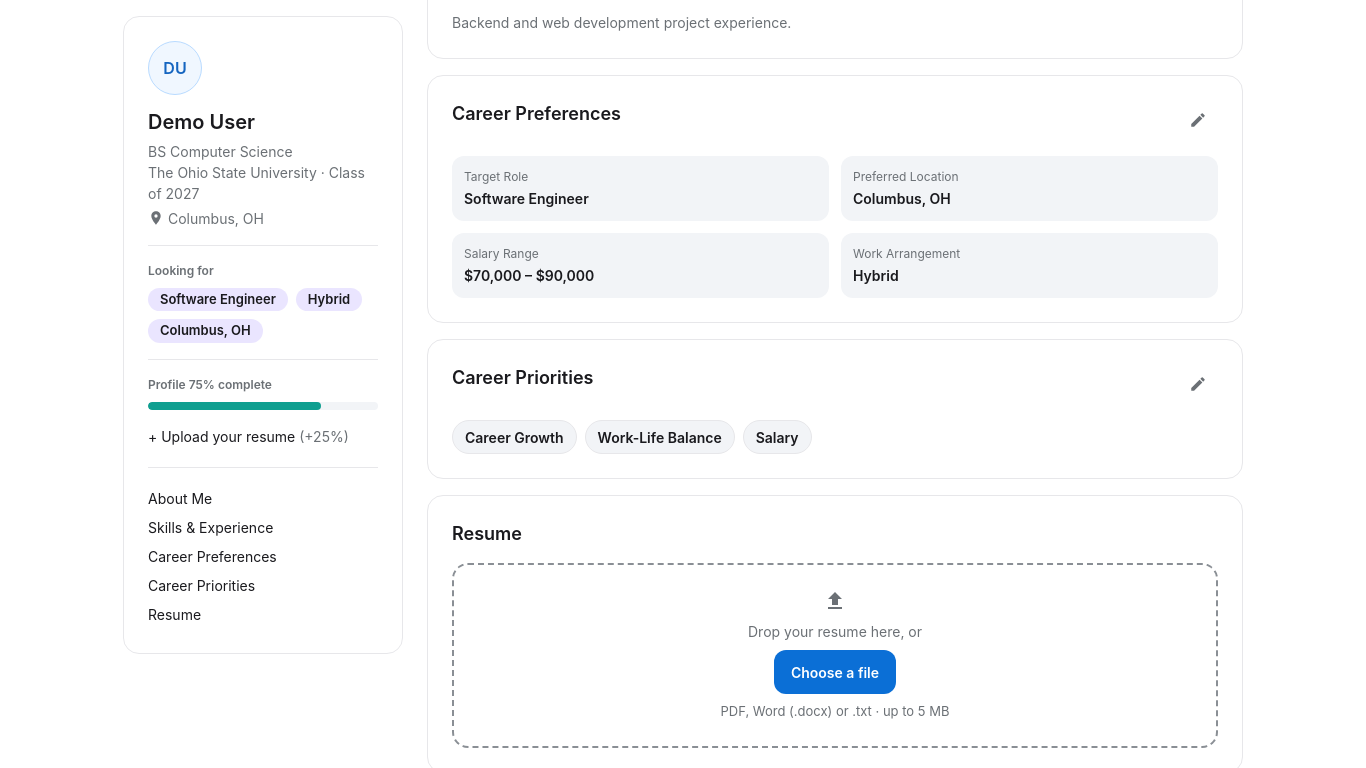
Test: ProfileView › allows at most three career priorities
(page scrolled)
Click the button named "Edit Career Priorities" at (1198, 384), box [1178,364,1218,404]
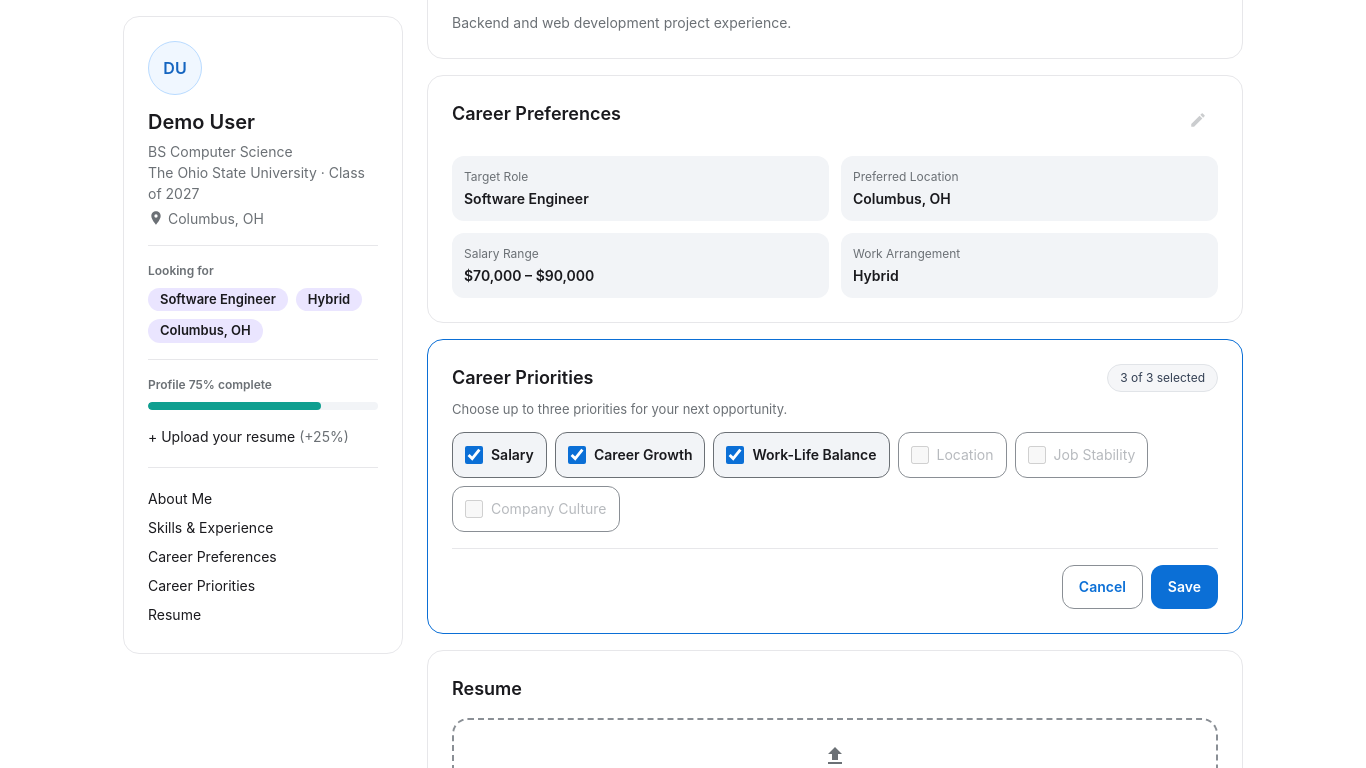
Check: the checkbox labelled "Location" is disabled, box [910,446,928,464]
Check: the text "3 of 3 selected" is shown, box [1107,364,1218,392]
Click the checkbox labelled "Salary" at (474, 455), box [465,446,483,464]
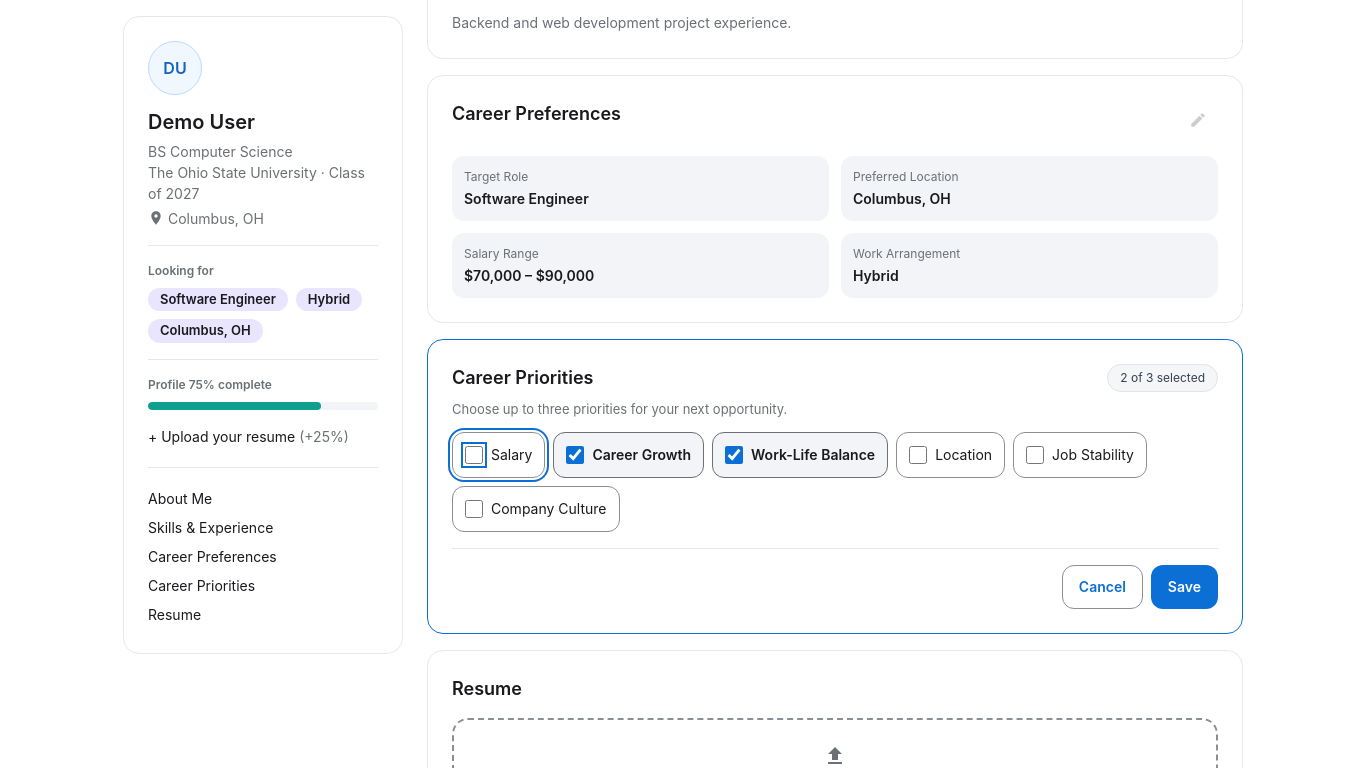
Check: the checkbox labelled "Location" is enabled, box [909,446,927,464]
